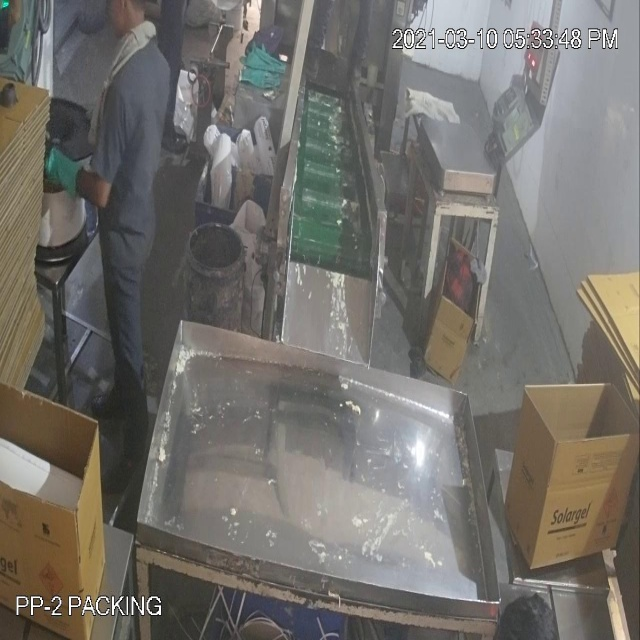Guantes: (42, 132, 86, 209)
